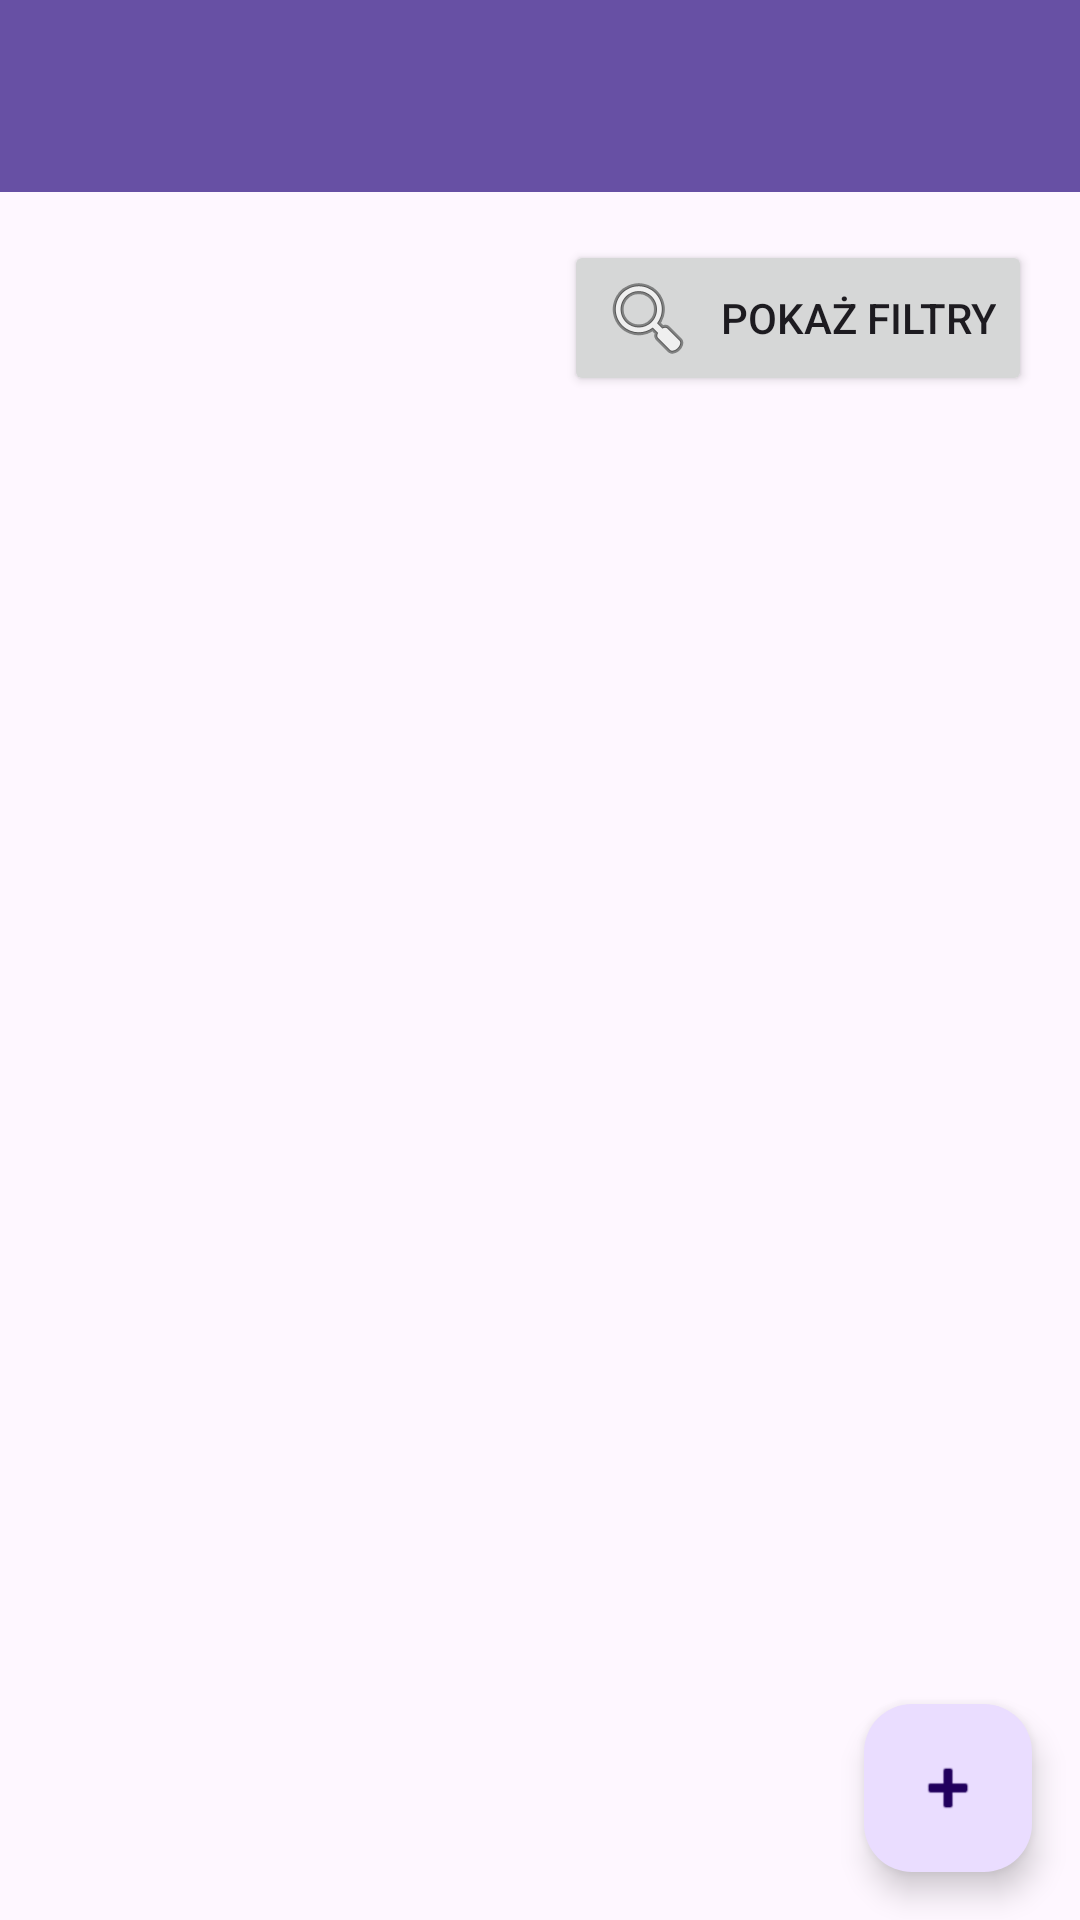

Point at icon controls on the screen. Image size 1080x1920, points as (x=x, y=y).
Dodaj transakcję: (x=948, y=1788)
